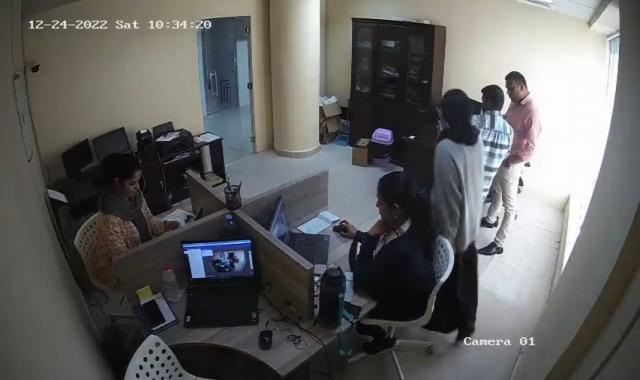no_hairnet: (376, 171, 417, 227), (108, 151, 146, 198), (436, 90, 473, 128), (503, 68, 529, 102), (480, 84, 504, 112)
